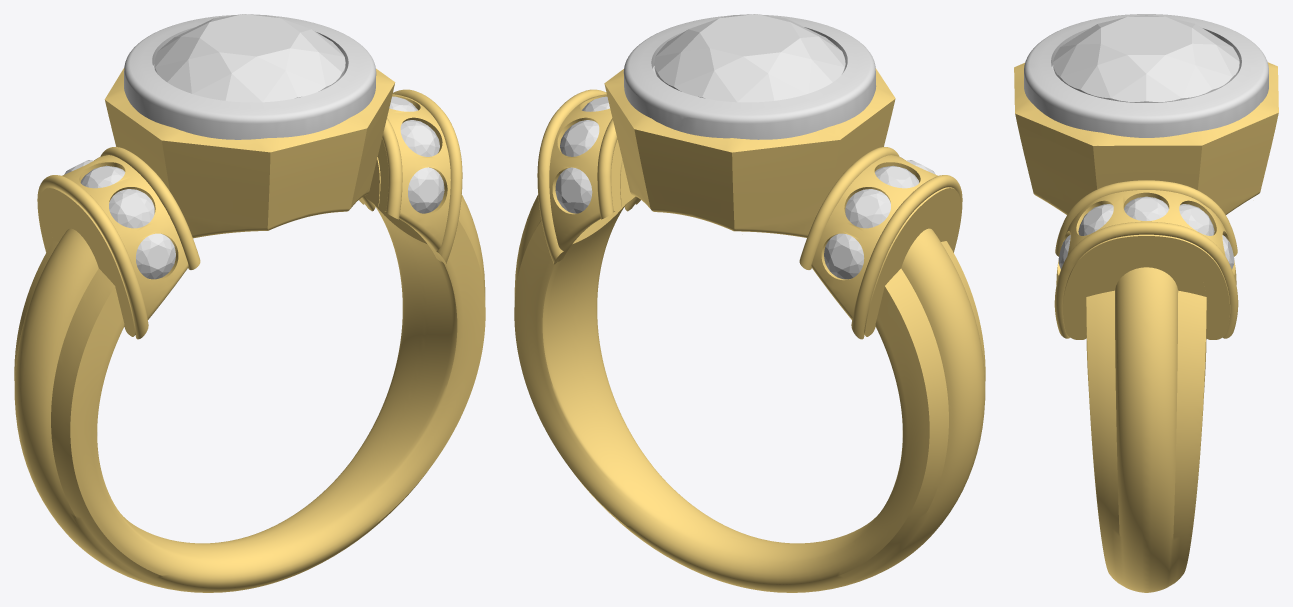
File: GaleYGptring_blender.glb
3 views of the same model, side by side, from view 1: azimuth 30°, elevation 25°; view 2: azimuth 150°, elevation 25°; view 3: azimuth 270°, elevation 25° (orthographic). The views are drawn at different scales.
Parts seen in each view (by area): view 1: Gail YG for 3d model, Gail PT for 3d model, Gail dia for 3d model, Gail dia for 3d model.001, Gail dia for 3d model.002, Gail dia for 3d model.006, Gail dia for 3d model.007, Gail dia for 3d model.003; view 2: Gail YG for 3d model, Gail PT for 3d model, Gail dia for 3d model, Gail dia for 3d model.005, Gail dia for 3d model.004, Gail dia for 3d model.010, Gail dia for 3d model.009, Gail dia for 3d model.003; view 3: Gail YG for 3d model, Gail dia for 3d model, Gail PT for 3d model, Gail dia for 3d model.008, Gail dia for 3d model.007, Gail dia for 3d model.009.
Boxes of the visible parts, <box> form: Gail YG for 3d model: <box>14,68,485,592</box>; Gail PT for 3d model: <box>124,15,376,139</box>; Gail dia for 3d model: <box>154,14,345,102</box>; Gail dia for 3d model.001: <box>135,233,175,279</box>; Gail dia for 3d model.002: <box>109,189,154,228</box>; Gail dia for 3d model.006: <box>408,167,444,213</box>; Gail dia for 3d model.007: <box>400,120,439,156</box>; Gail dia for 3d model.003: <box>80,165,125,188</box>; Gail YG for 3d model: <box>514,68,985,592</box>; Gail PT for 3d model: <box>623,15,876,139</box>; Gail dia for 3d model: <box>654,14,845,102</box>; Gail dia for 3d model.005: <box>824,233,864,279</box>; Gail dia for 3d model.004: <box>845,189,890,228</box>; Gail dia for 3d model.010: <box>555,167,592,213</box>; Gail dia for 3d model.009: <box>560,120,599,156</box>; Gail dia for 3d model.003: <box>875,165,919,188</box>; Gail YG for 3d model: <box>1014,62,1278,592</box>; Gail dia for 3d model: <box>1053,15,1239,102</box>; Gail PT for 3d model: <box>1024,14,1268,137</box>; Gail dia for 3d model.008: <box>1124,196,1168,220</box>; Gail dia for 3d model.007: <box>1078,204,1113,235</box>; Gail dia for 3d model.009: <box>1179,204,1214,235</box>.
Size of the model in its own units: 22.86 by 25.9 by 11.68.
